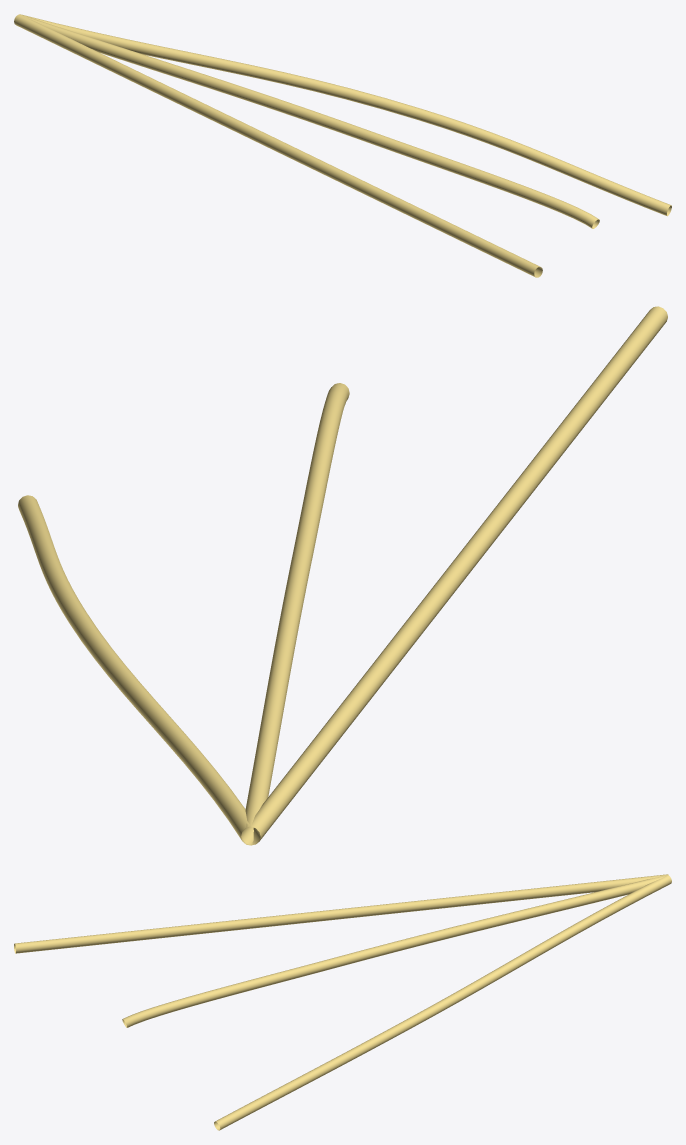
3 renders of one model, top to bottom at view 1: azimuth 30°, elevation 25°; view 2: azimuth 150°, elevation 25°; view 3: azimuth 270°, elevation 25°, orthographic. The views are drawn at different scales.
Parts seen in each view (by area): view 1: ZA_fe3332d75f3d85b6; view 2: ZA_fe3332d75f3d85b6; view 3: ZA_fe3332d75f3d85b6.
Boxes of the visible parts, x1=… form: ZA_fe3332d75f3d85b6: x1=14, y1=14, x2=671, y2=277; ZA_fe3332d75f3d85b6: x1=18, y1=306, x2=667, y2=845; ZA_fe3332d75f3d85b6: x1=14, y1=874, x2=671, y2=1130.
Bounding box in the file's own units: 0.0389 × 0.00984 × 0.0643.
